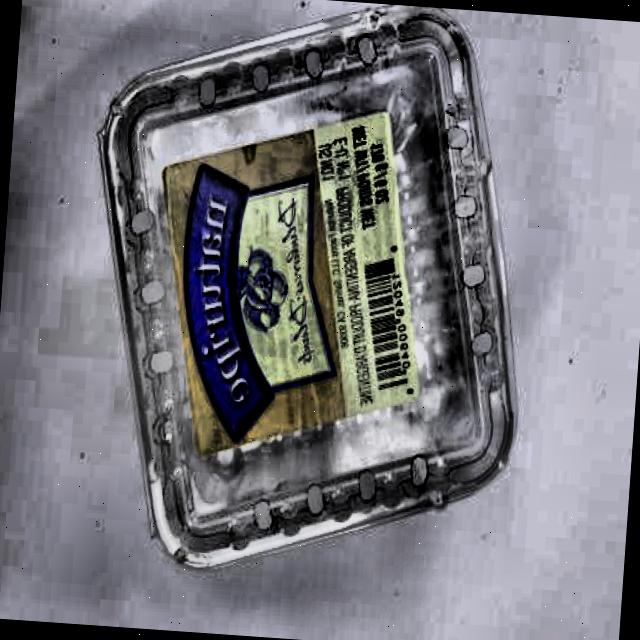plastic: (76, 0, 529, 577)
